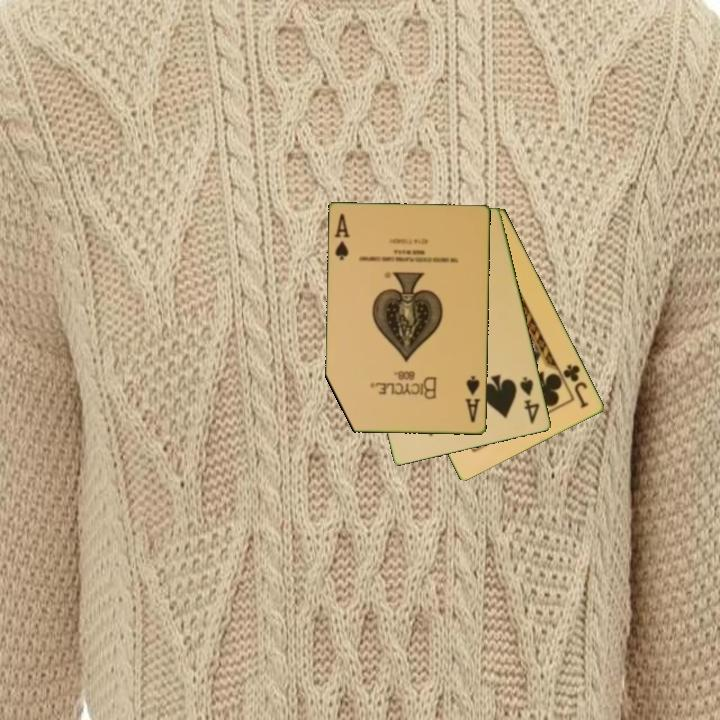4s: (516, 373, 543, 427)
As: (462, 373, 483, 426), (331, 210, 352, 263)
Jc: (560, 361, 592, 411)
